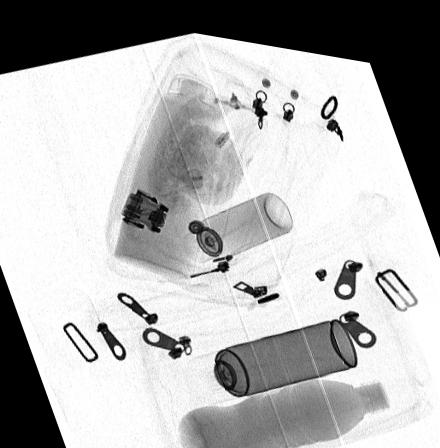Sprayer: (185, 306, 357, 395), (182, 182, 293, 254)
